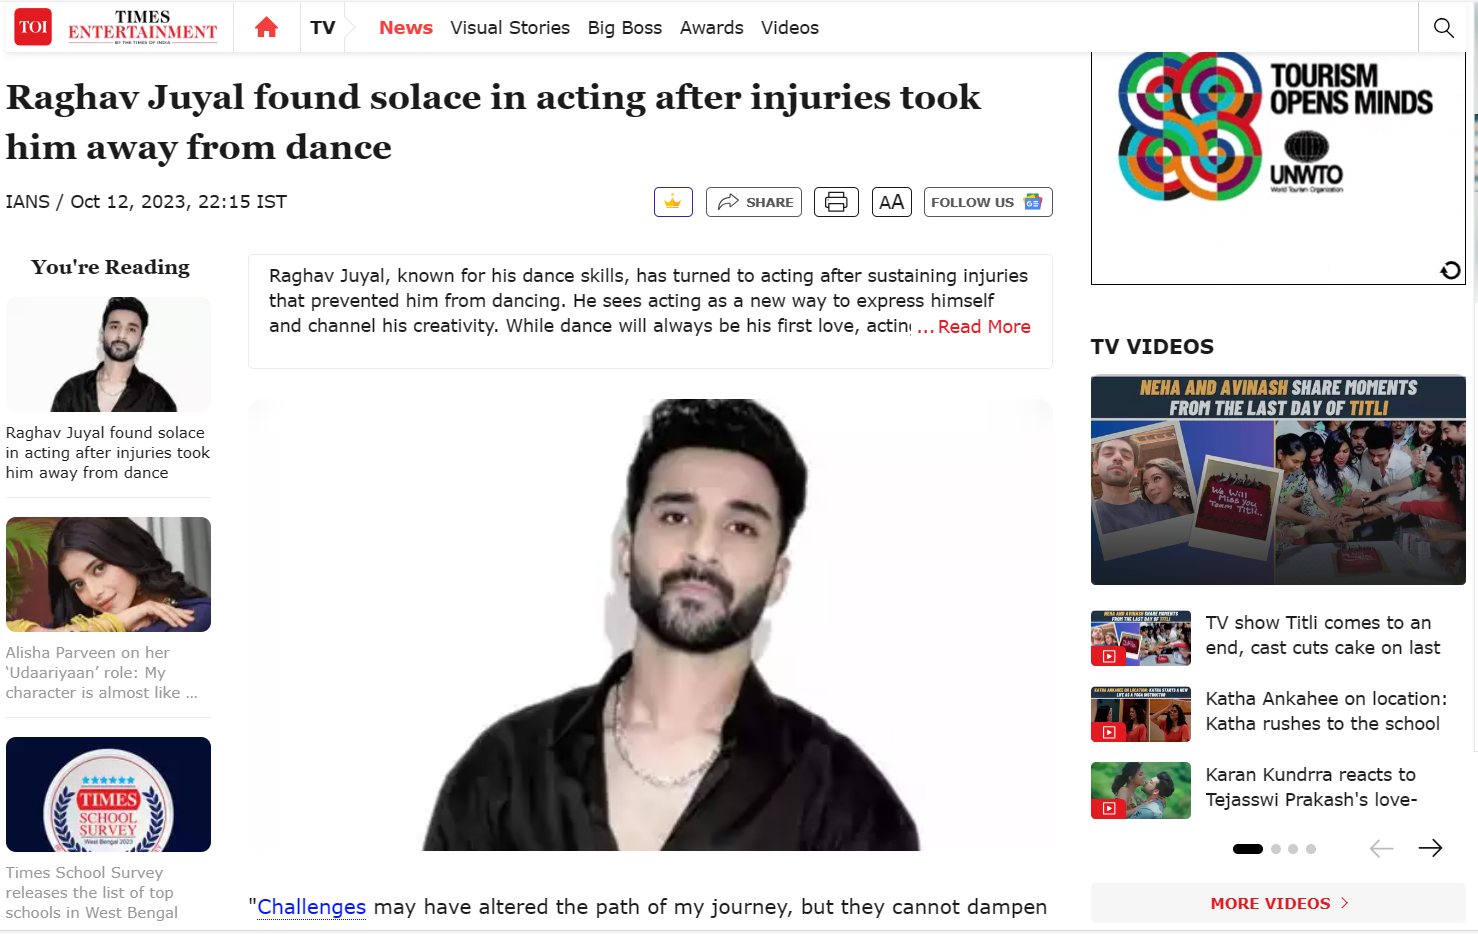Image: (287, 401, 1028, 853), (1086, 56, 1467, 293), (1094, 371, 1468, 589), (5, 736, 215, 855), (23, 299, 196, 413), (1084, 759, 1193, 823), (1084, 610, 1197, 671), (1086, 687, 1193, 747)
Paragraph: (11, 75, 1070, 156), (265, 261, 1047, 349), (248, 887, 1053, 926), (1195, 758, 1470, 819), (5, 645, 215, 706), (8, 424, 215, 483), (3, 865, 195, 926), (1204, 689, 1452, 733), (2, 187, 323, 221), (1211, 615, 1444, 659), (63, 0, 221, 49), (1092, 324, 1220, 357), (452, 16, 573, 39), (763, 12, 830, 44), (674, 16, 749, 44), (587, 16, 668, 40), (300, 12, 349, 47), (379, 16, 440, 39)
